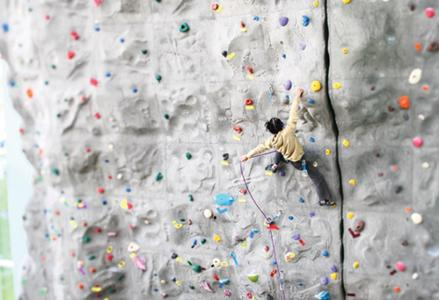person: (240, 89, 339, 207)
